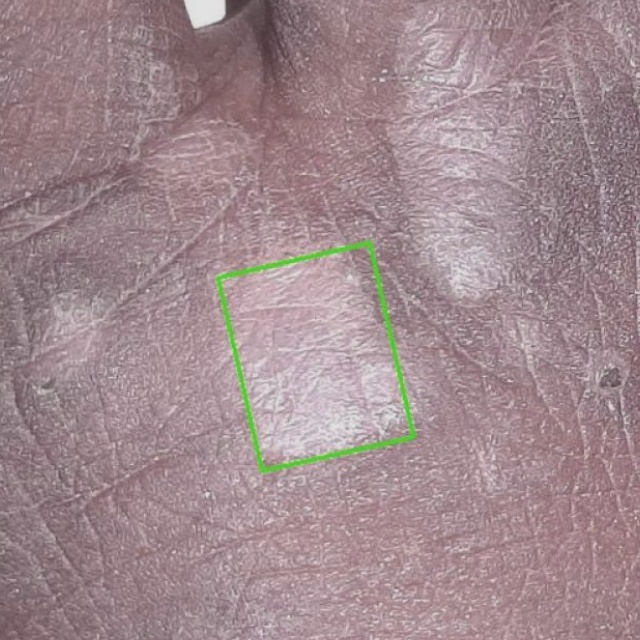Eczema: (217, 242, 413, 470)
